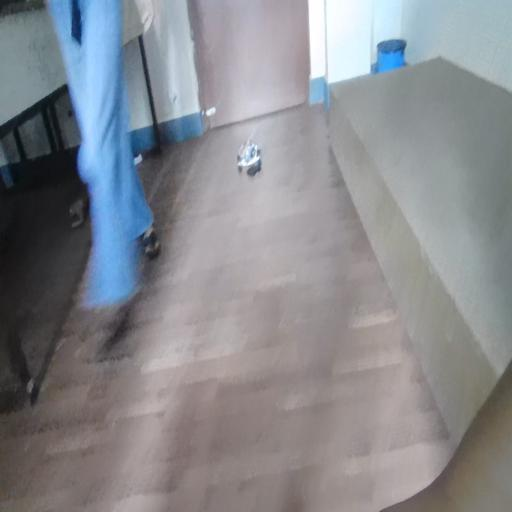car: (220, 114, 275, 185)
